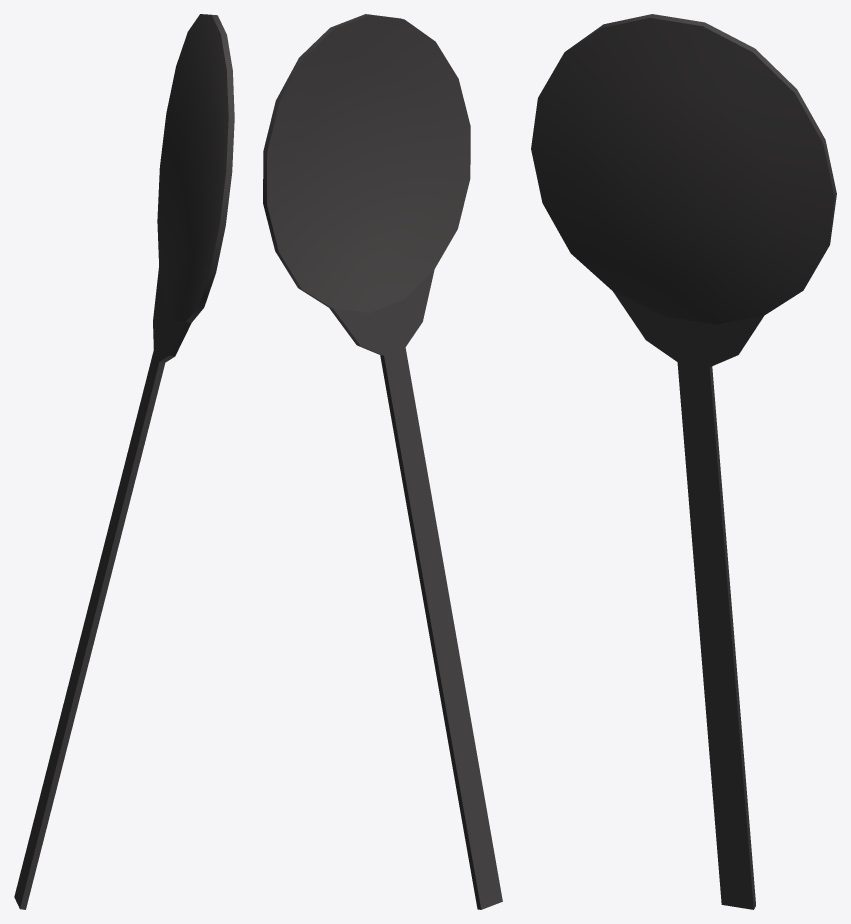
File: Kitchen_Spatula03.FBX
3 views of the same model, side by side, from view 1: azimuth 30°, elevation 25°; view 2: azimuth 150°, elevation 25°; view 3: azimuth 270°, elevation 25° (orthographic). The views are drawn at different scales.
Visible parts, largest first — view 1: Kitchen_spatula_3; view 2: Kitchen_spatula_3; view 3: Kitchen_spatula_3.
Part boxes in pixels (left/top/right/bottom): Kitchen_spatula_3: left=14, top=14, right=234, bottom=909; Kitchen_spatula_3: left=263, top=14, right=502, bottom=909; Kitchen_spatula_3: left=531, top=14, right=836, bottom=909.
Size of the model in its own units: 0.0737 by 0.2939 by 0.0829.
